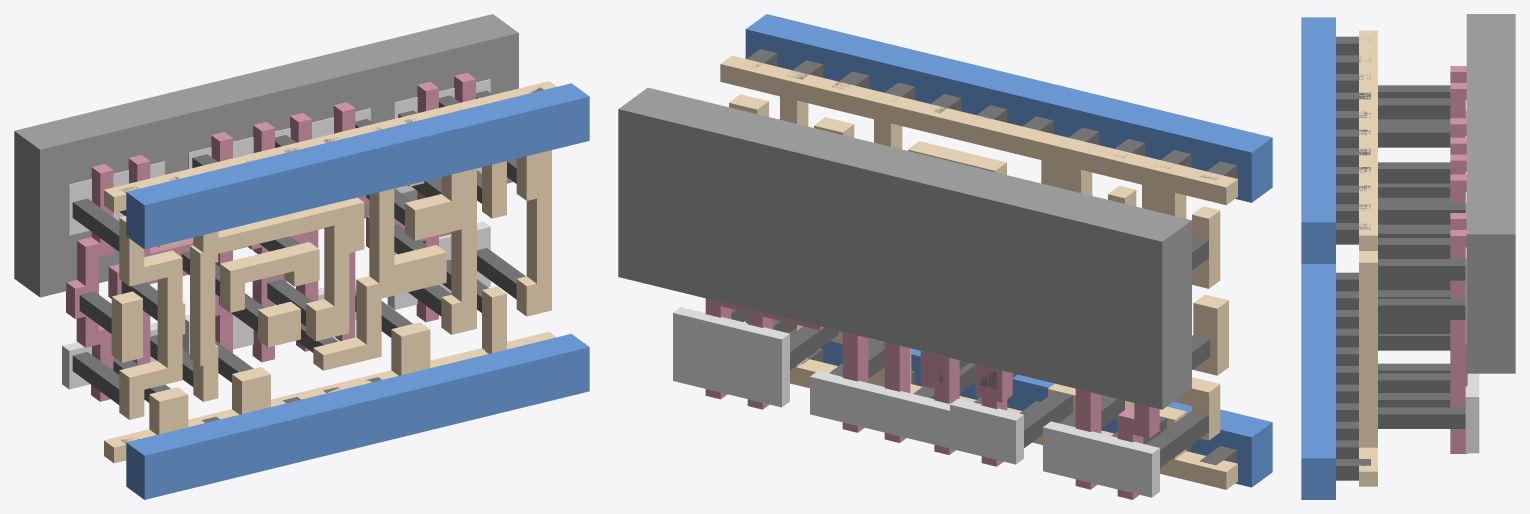
Rendered from sky130_fd_sc_hd__lpflow_inputisolatch_1.gds.gltf.
3 renders of one model, left to right at view 1: azimuth 30°, elevation 25°; view 2: azimuth 150°, elevation 25°; view 3: azimuth 270°, elevation 25°, orthographic. The views are drawn at different scales.
Visible parts, largest first — view 1: sky130_fd_sc_hd__lpflow_inputisolatch_1_li1, sky130_fd_sc_hd__lpflow_inputisolatch_1_met1, sky130_fd_sc_hd__lpflow_inputisolatch_1_nwell, sky130_fd_sc_hd__lpflow_inputisolatch_1_licon, sky130_fd_sc_hd__lpflow_inputisolatch_1_poly, sky130_fd_sc_hd__lpflow_inputisolatch_1_diff; view 2: sky130_fd_sc_hd__lpflow_inputisolatch_1_nwell, sky130_fd_sc_hd__lpflow_inputisolatch_1_li1, sky130_fd_sc_hd__lpflow_inputisolatch_1_met1, sky130_fd_sc_hd__lpflow_inputisolatch_1_diff, sky130_fd_sc_hd__lpflow_inputisolatch_1_poly, sky130_fd_sc_hd__lpflow_inputisolatch_1_licon, sky130_fd_sc_hd__lpflow_inputisolatch_1_mcon; view 3: sky130_fd_sc_hd__lpflow_inputisolatch_1_licon, sky130_fd_sc_hd__lpflow_inputisolatch_1_nwell, sky130_fd_sc_hd__lpflow_inputisolatch_1_met1, sky130_fd_sc_hd__lpflow_inputisolatch_1_mcon, sky130_fd_sc_hd__lpflow_inputisolatch_1_li1, sky130_fd_sc_hd__lpflow_inputisolatch_1_poly, sky130_fd_sc_hd__lpflow_inputisolatch_1_diff.
Part boxes in pixels (x1,y1,x2,y2): sky130_fd_sc_hd__lpflow_inputisolatch_1_li1: (104, 81, 556, 463); sky130_fd_sc_hd__lpflow_inputisolatch_1_met1: (126, 83, 589, 499); sky130_fd_sc_hd__lpflow_inputisolatch_1_nwell: (14, 14, 518, 297); sky130_fd_sc_hd__lpflow_inputisolatch_1_licon: (72, 90, 525, 404); sky130_fd_sc_hd__lpflow_inputisolatch_1_poly: (66, 72, 475, 401); sky130_fd_sc_hd__lpflow_inputisolatch_1_diff: (62, 79, 490, 389); sky130_fd_sc_hd__lpflow_inputisolatch_1_nwell: (618, 87, 1191, 409); sky130_fd_sc_hd__lpflow_inputisolatch_1_li1: (720, 55, 1237, 489); sky130_fd_sc_hd__lpflow_inputisolatch_1_met1: (745, 14, 1272, 487); sky130_fd_sc_hd__lpflow_inputisolatch_1_diff: (673, 307, 1159, 497); sky130_fd_sc_hd__lpflow_inputisolatch_1_poly: (705, 298, 1159, 499); sky130_fd_sc_hd__lpflow_inputisolatch_1_licon: (731, 119, 1210, 467); sky130_fd_sc_hd__lpflow_inputisolatch_1_mcon: (747, 49, 1237, 465); sky130_fd_sc_hd__lpflow_inputisolatch_1_licon: (1378, 85, 1465, 428); sky130_fd_sc_hd__lpflow_inputisolatch_1_nwell: (1466, 14, 1515, 373); sky130_fd_sc_hd__lpflow_inputisolatch_1_met1: (1301, 17, 1335, 499); sky130_fd_sc_hd__lpflow_inputisolatch_1_mcon: (1336, 36, 1370, 480); sky130_fd_sc_hd__lpflow_inputisolatch_1_li1: (1359, 30, 1377, 486); sky130_fd_sc_hd__lpflow_inputisolatch_1_poly: (1450, 66, 1467, 453); sky130_fd_sc_hd__lpflow_inputisolatch_1_diff: (1465, 100, 1479, 453).
Bounding box in the file's own units: 5.44 × 3.2 × 2.24.
